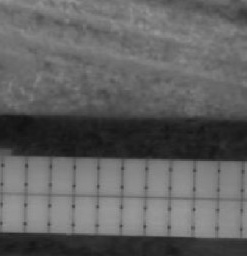solar: (47, 154, 76, 196), (71, 154, 100, 196), (95, 156, 124, 198), (119, 156, 148, 198), (25, 154, 53, 196), (145, 157, 173, 199), (169, 158, 197, 200), (193, 159, 221, 201), (217, 159, 245, 201), (22, 194, 50, 236), (47, 193, 75, 235), (71, 192, 99, 234), (95, 193, 123, 235), (118, 193, 146, 235), (143, 194, 171, 236), (169, 195, 197, 237), (191, 196, 219, 238), (217, 196, 245, 238), (1, 193, 28, 235), (1, 154, 28, 194)
